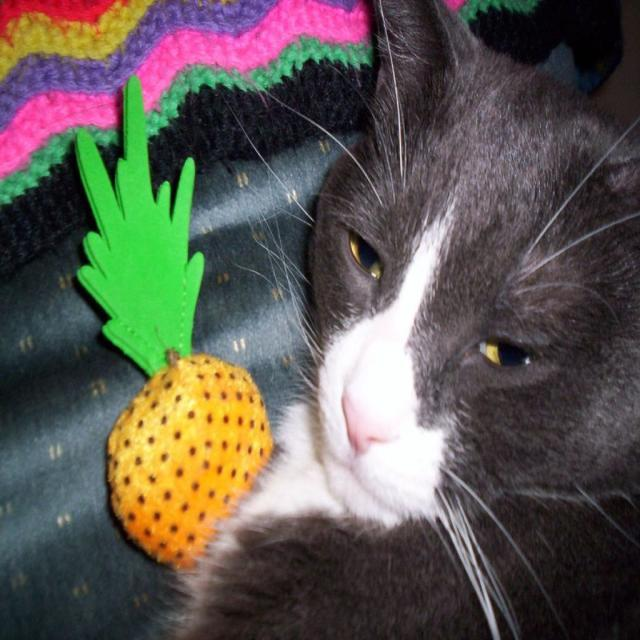Non_Gorille: (2, 10, 640, 637)
